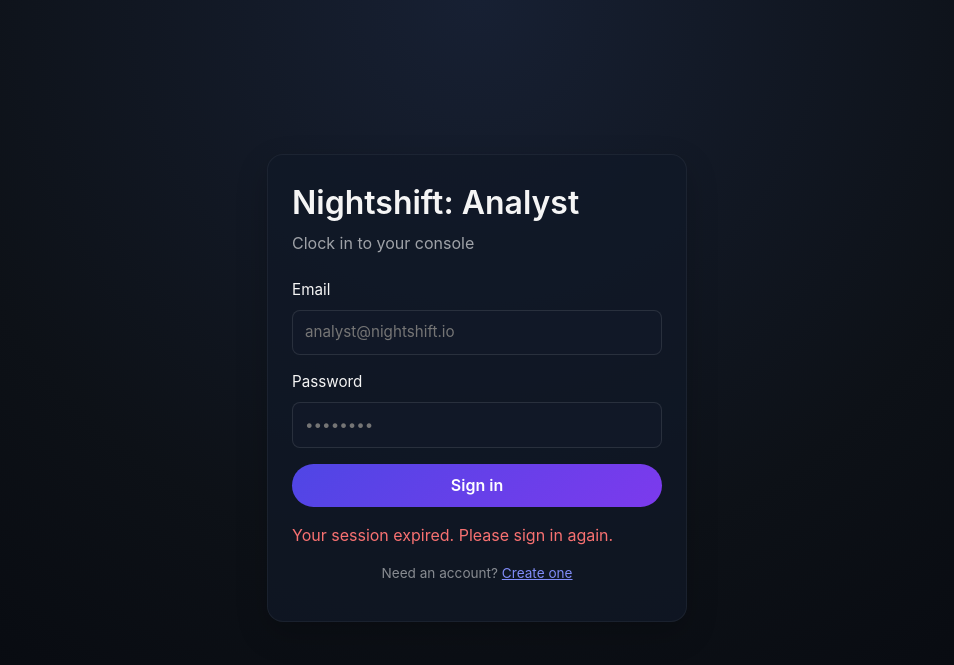
Test: LoginPage › stops showing a stale context error once the user switches to registration
Expected: the message shows "session expired", 292,525 -> 613,545
Click the button "Create one" at (537, 573), box 502,563 -> 572,583
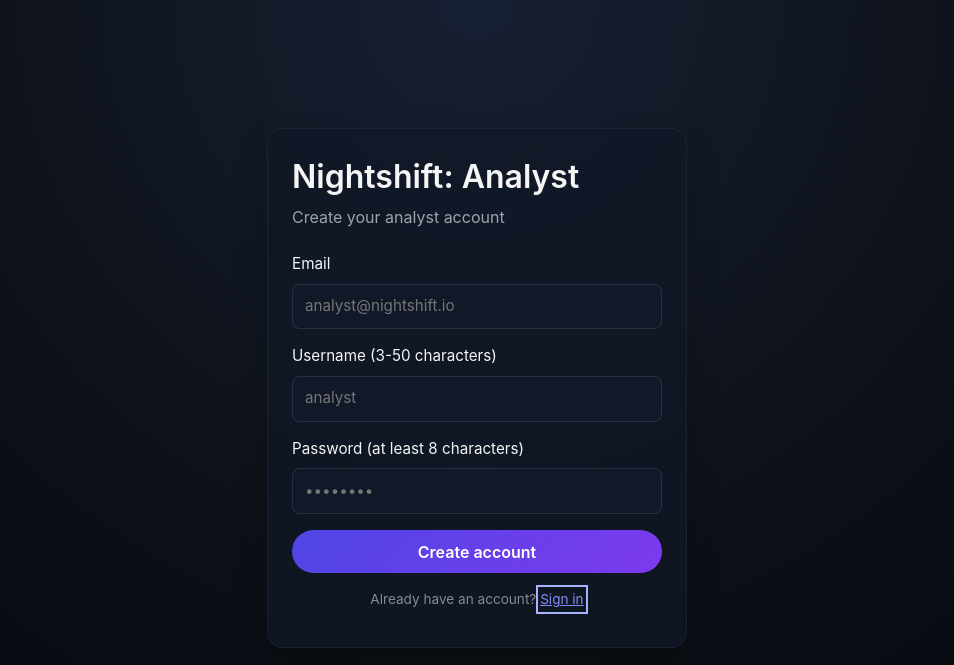
Expected: the message "Your session expired. Please sign in again." is gone
